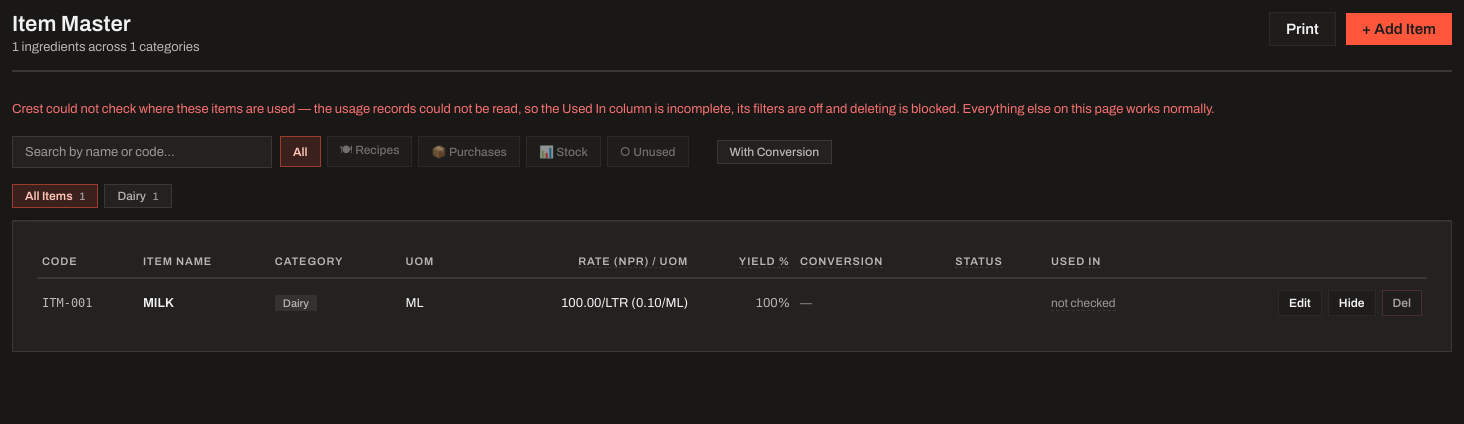
a failed count shows the failure banner and keeps Del refusing
The width and height of the screenshot is (1464, 424).
Check: the text "could not check where these items are used" is shown, box [12,102,1215,116]
Check: the text "not checked" is shown, box [1051,296,1116,310]
Step 1. Click the button with aria-label "Delete MILK" → (1402, 302), box [1382,290,1422,316]
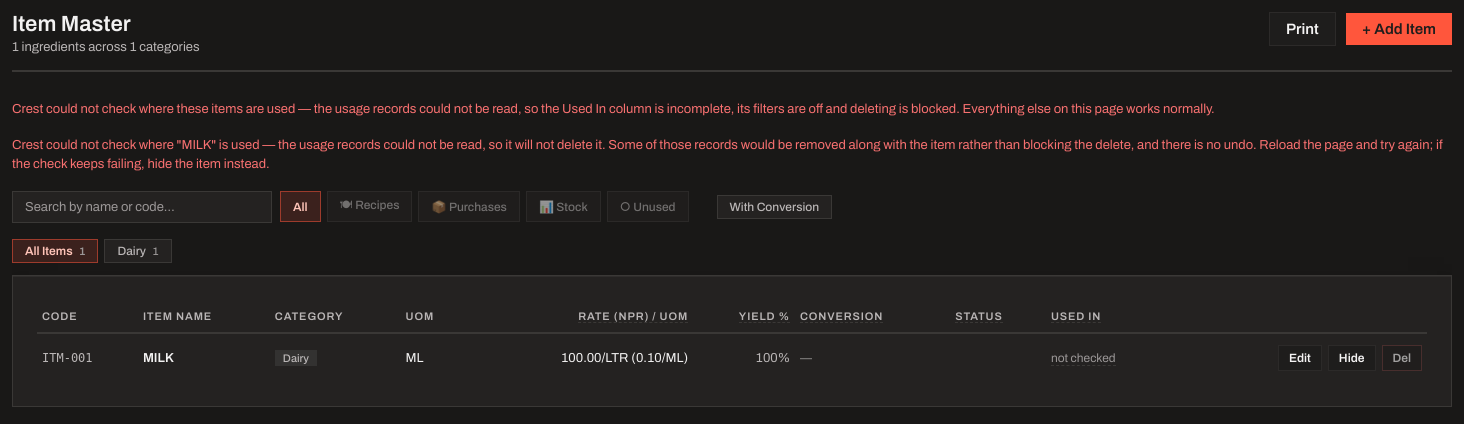
Check: the text "Crest could not check where \"MILK\" is used" is shown, box [12,138,1443,171]
